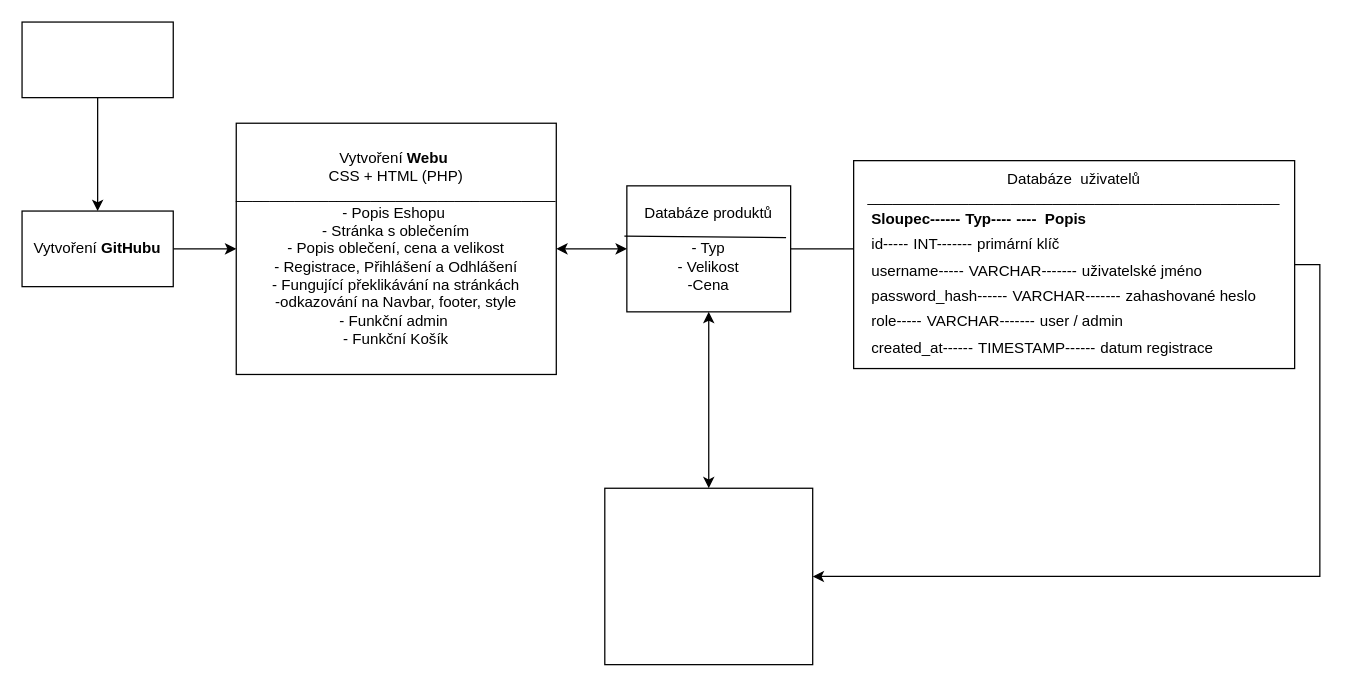
Some shapes in this 1352 by 687 pixel diagram are drawn without their labels. The box of each missing label's shape, as (x1, y1, x2, y2) in pixels:
Propojit s Pythnem _________________________ - Grafy: (604, 487, 813, 665)
Téma + autor: Eshop s oblečením (David Hužvár): (21, 21, 173, 98)
